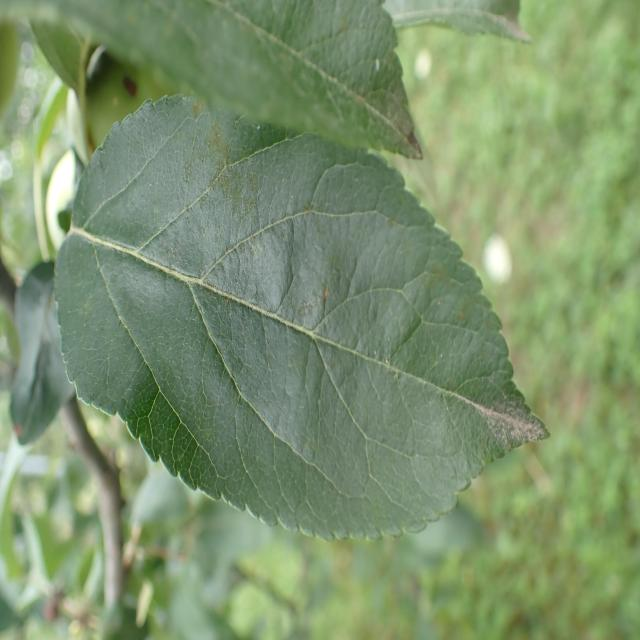scab: (131, 112, 513, 503)
